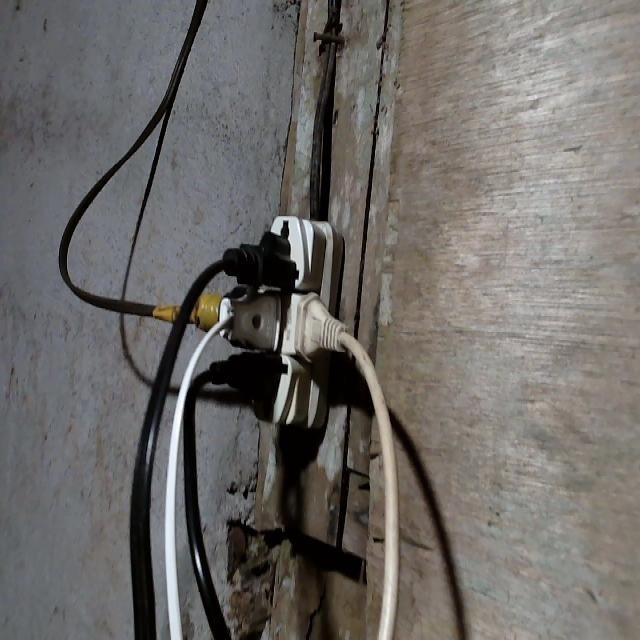-: (183, 212, 351, 431)
